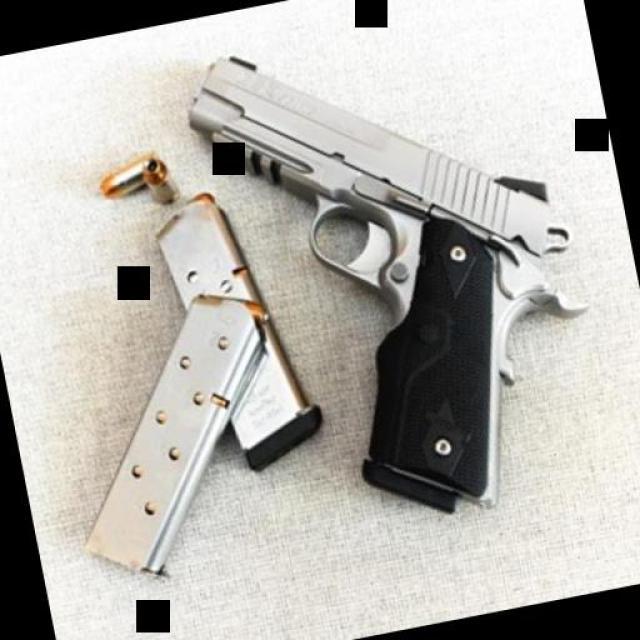gun: (168, 0, 622, 551)
